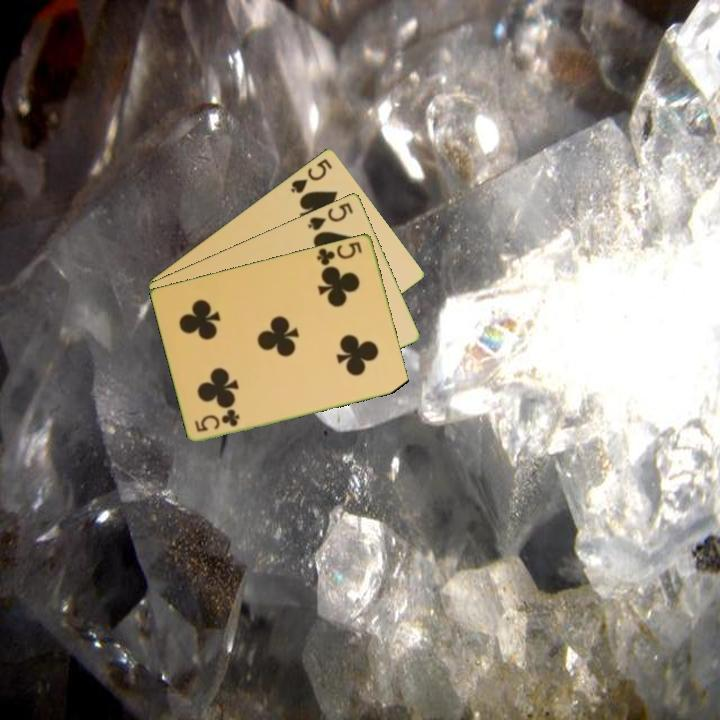5c: (313, 238, 365, 270), (191, 406, 243, 434)
5s: (287, 155, 335, 196), (304, 198, 356, 233)
